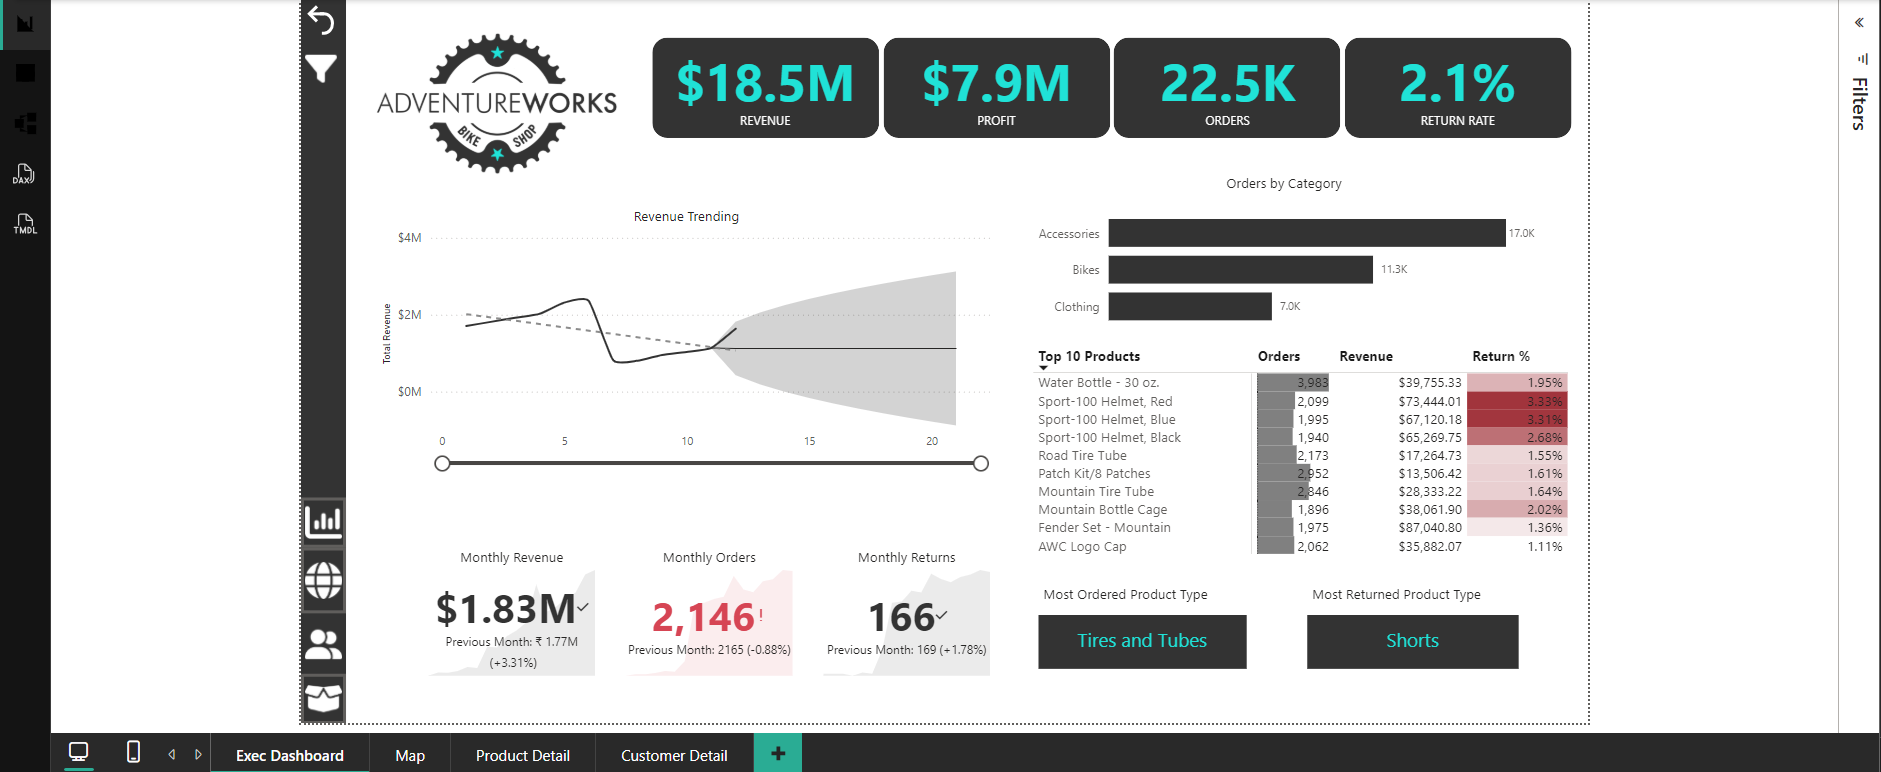

What the dashboard file says about the page in this screenshot:
{"tool":"powerbi","page":{"name":"Exec Dashboard","canvas":[1280,720],"ordinal":0},"visuals":[{"type":"card","fields":{"Values":["Measure Table.Total Revenue"]},"box":[334.5,12.1,255.2,150],"z":0,"group":"g2"},{"type":"image","title":"AW Logo","box":[44.8,19,301.7,169],"z":0},{"type":"group","id":"g1","title":"KPI Backgrounds","box":[348.9,37.4,914.9,100.6],"z":0,"group":"g3"},{"type":"shape","box":[348.9,37.4,225.9,100],"z":0,"group":"g1"},{"type":"shape","title":"Left Nav Background","box":[0,0,45,720.7],"z":1000},{"type":"group","id":"g2","title":"KPI Values","box":[334.5,12.1,944.8,150],"z":1000,"group":"g3"},{"type":"card","fields":{"Values":["Measure Table.Total Orders"]},"box":[794.3,12.1,255.2,150],"z":1000,"group":"g2"},{"type":"shape","box":[808.3,37.4,225.9,100],"z":1000,"group":"g1"},{"type":"group","id":"g3","title":"KPIs","box":[334.5,12.1,944.8,150],"z":2000},{"type":"card","fields":{"Values":["Measure Table.Return Rate"]},"box":[1024.2,12.1,255.2,150],"z":2000,"group":"g2"},{"type":"shape","box":[578.6,37.4,225.9,100],"z":2000,"group":"g1"},{"type":"card","fields":{"Values":["Measure Table.Total profit"]},"box":[564.4,12.1,255.2,150],"z":3000,"group":"g2"},{"type":"shape","box":[1038,38,225.9,100],"z":3000,"group":"g1"},{"type":"lineChart","title":"Revenue Trending","fields":{"Y":["Measure Table.Total Revenue"],"Category":["Calendar Lookup.Year","Calendar Lookup.Start of Quarter","Calendar Lookup.Month"]},"box":[75.9,205.2,615.5,287.9],"z":3000},{"type":"kpi","title":"Monthly Revenue","fields":{"Indicator":["Measure Table.Total Revenue"],"TrendLine":["Calendar Lookup.Start of Month"],"Goal":["Measure Table.Previous Month Revenue"]},"box":[122.4,544.8,175.9,132.8],"z":4000},{"type":"kpi","title":"Monthly Orders","fields":{"TrendLine":["Calendar Lookup.Start of Month"],"Indicator":["Measure Table.Total Orders"],"Goal":["Measure Table.Previous Month Orders"]},"box":[319,544.8,175.9,132.8],"z":5000},{"type":"kpi","title":"Monthly Returns","fields":{"TrendLine":["Calendar Lookup.Start of Month"],"Indicator":["Measure Table.Total Returns"],"Goal":["Measure Table.Previous Month Returns"]},"box":[515.5,544.8,175.9,132.8],"z":6000},{"type":"barChart","title":"Orders by Category","fields":{"Category":["Product Categories Lookup.CategoryName"],"Y":["Measure Table.Total Orders"]},"box":[724.1,172.4,508.6,167.2],"z":7000},{"type":"pivotTable","fields":{"Rows":["Product Lookup.ProductName"],"Values":["Measure Table.Total Orders","Measure Table.Total Revenue","Measure Table.Return Rate"]},"box":[724.1,339.7,555.2,219],"z":8000},{"type":"card","fields":{"Values":["Min(Product Subcategories Lookup.SubcategoryName)"]},"box":[734.5,612.1,206.9,53.4],"z":9000},{"type":"textbox","box":[734.5,577.6,206.9,34.5],"z":10000},{"type":"card","fields":{"Values":["Min(Product Subcategories Lookup.SubcategoryName)"]},"box":[1001.7,612.1,210.3,53.4],"z":11000},{"type":"textbox","box":[1001.7,577.6,206.9,34.5],"z":12000},{"type":"actionButton","box":[0,0,44.8,39.7],"z":13000},{"type":"actionButton","box":[0,670,44.8,50],"z":14000},{"type":"actionButton","box":[0,494.8,44.8,50],"z":15000},{"type":"actionButton","box":[0,544.8,44.8,65.5],"z":16000},{"type":"actionButton","box":[0,610.3,44.8,60.3],"z":17000},{"type":"actionButton","box":[0,48.3,100,39.7],"z":18000}]}

Visuals, with their boxes on the page's 1280x720 design canvas (x1, y1, x2, y2). These are canvas units, not pixel positions in the 1881x772 screenshot, which may show the page scaled, cropped or inside an application window:
card - Measure Table.Total Revenue: (x1=334, y1=12, x2=590, y2=162)
"AW Logo" image: (x1=45, y1=19, x2=346, y2=188)
"KPI Backgrounds" group: (x1=349, y1=37, x2=1264, y2=138)
shape: (x1=349, y1=37, x2=575, y2=137)
"Left Nav Background" shape: (x1=0, y1=0, x2=45, y2=721)
"KPI Values" group: (x1=334, y1=12, x2=1279, y2=162)
card - Measure Table.Total Orders: (x1=794, y1=12, x2=1050, y2=162)
shape: (x1=808, y1=37, x2=1034, y2=137)
"KPIs" group: (x1=334, y1=12, x2=1279, y2=162)
card - Measure Table.Return Rate: (x1=1024, y1=12, x2=1279, y2=162)
shape: (x1=579, y1=37, x2=804, y2=137)
card - Measure Table.Total profit: (x1=564, y1=12, x2=820, y2=162)
shape: (x1=1038, y1=38, x2=1264, y2=138)
"Revenue Trending" lineChart: (x1=76, y1=205, x2=691, y2=493)
"Monthly Revenue" kpi: (x1=122, y1=545, x2=298, y2=678)
"Monthly Orders" kpi: (x1=319, y1=545, x2=495, y2=678)
"Monthly Returns" kpi: (x1=516, y1=545, x2=691, y2=678)
"Orders by Category" barChart: (x1=724, y1=172, x2=1233, y2=340)
pivotTable - Product Lookup.ProductName x Measure Table.Total Orders: (x1=724, y1=340, x2=1279, y2=559)
card - Min(Product Subcategories Lookup.SubcategoryName): (x1=734, y1=612, x2=941, y2=666)
textbox: (x1=734, y1=578, x2=941, y2=612)
card - Min(Product Subcategories Lookup.SubcategoryName): (x1=1002, y1=612, x2=1212, y2=666)
textbox: (x1=1002, y1=578, x2=1209, y2=612)
actionButton: (x1=0, y1=0, x2=45, y2=40)
actionButton: (x1=0, y1=670, x2=45, y2=720)
actionButton: (x1=0, y1=495, x2=45, y2=545)
actionButton: (x1=0, y1=545, x2=45, y2=610)
actionButton: (x1=0, y1=610, x2=45, y2=671)
actionButton: (x1=0, y1=48, x2=100, y2=88)
